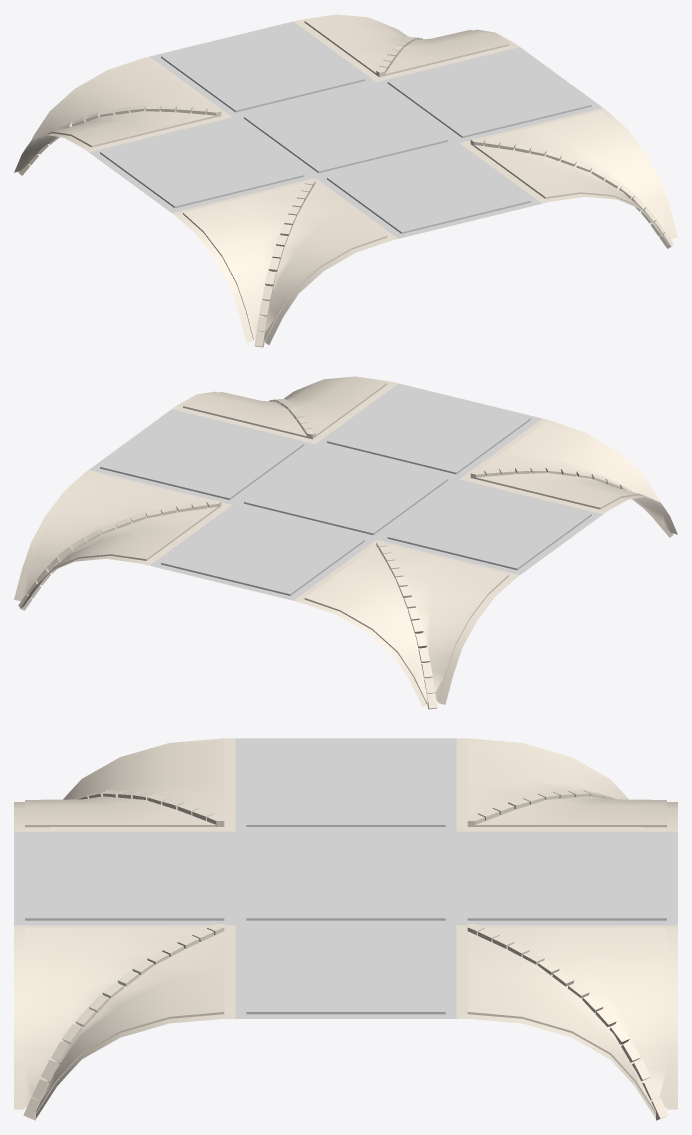
File: roof-combo.fbx
3 renders of one model, top to bottom at view 1: azimuth 30°, elevation 25°; view 2: azimuth 150°, elevation 25°; view 3: azimuth 270°, elevation 25°, orthographic. The views are drawn at different scales.
Visible parts, largest first — view 1: roof2 New.001; view 2: roof2 New.001; view 3: roof2 New.001.
Part boxes in pixels (x1,y1,x2,y2): roof2 New.001: (14, 14, 677, 347); roof2 New.001: (14, 376, 677, 709); roof2 New.001: (14, 738, 677, 1120).
Bounding box in the file's own units: 600 × 113 × 600.
